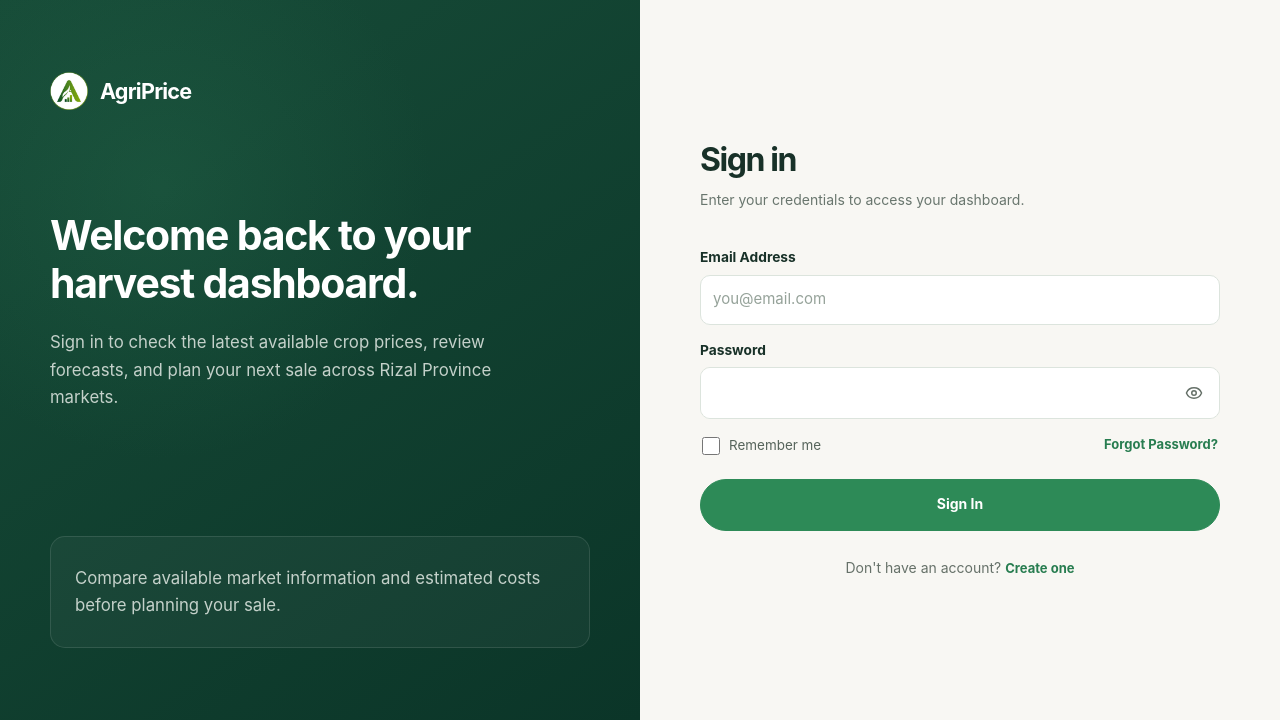
Test: public registration › password visibility button has an accessible name and changes input type
Click the button named "Show password".
click(1194, 393)  # box [1174,373,1214,413]
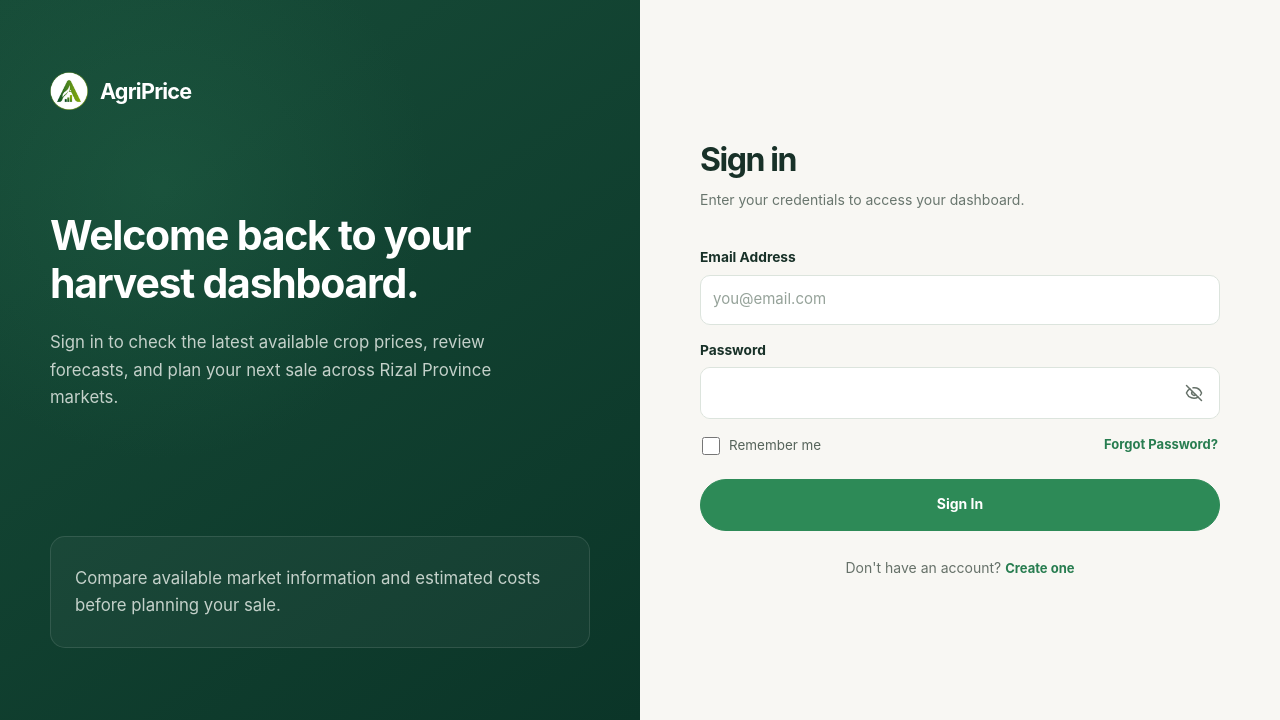
expect the button named "Hide password" is shown: met, box [1174,373,1214,413]
